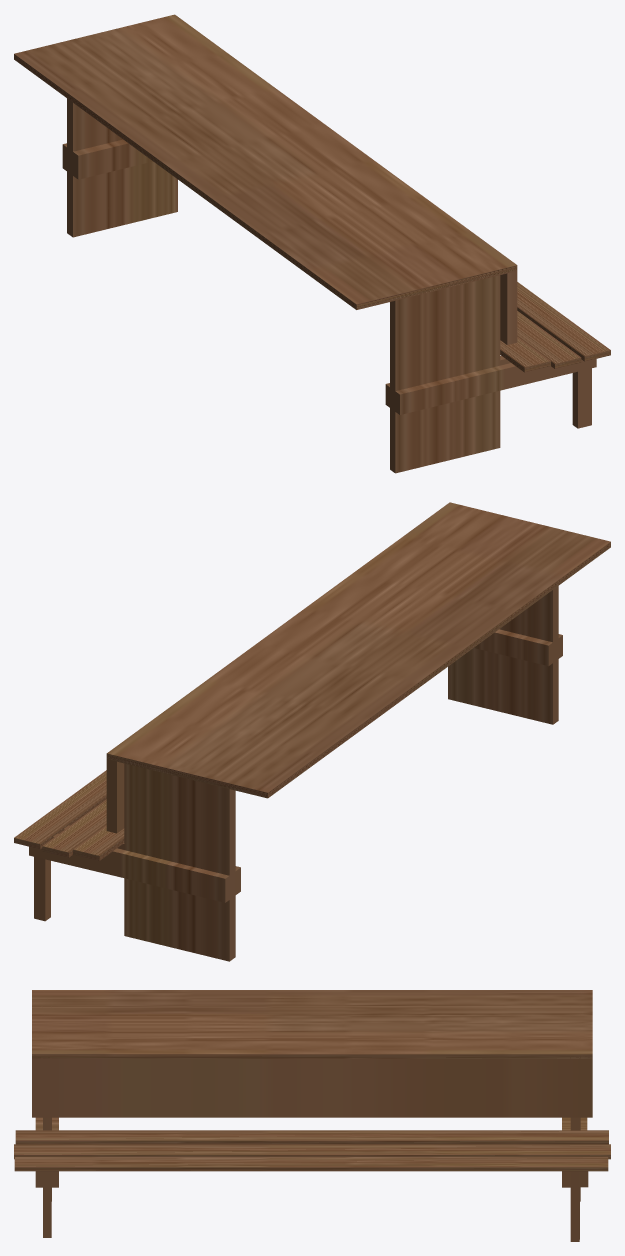
The model's file is Elem_Table.fbx.
3 views of the same model, one above another, from view 1: azimuth 30°, elevation 25°; view 2: azimuth 150°, elevation 25°; view 3: azimuth 270°, elevation 25° (orthographic). The views are drawn at different scales.
Visible parts, largest first — view 1: Cube, Cube.003, Cube.001, Cube.002; view 2: Cube, Cube.003, Cube.001, Cube.002; view 3: Cube, Cube.003, Cube.002, Cube.001.
Boxes of the visible parts, x1,y1,x2,y2 form: Cube: [14, 14, 596, 473]; Cube.003: [517, 282, 610, 361]; Cube.001: [517, 311, 581, 368]; Cube.002: [500, 337, 550, 372]; Cube: [29, 502, 610, 961]; Cube.003: [14, 770, 106, 849]; Cube.001: [42, 799, 106, 857]; Cube.002: [73, 825, 124, 860]; Cube: [32, 990, 592, 1241]; Cube.003: [14, 1156, 608, 1171]; Cube.002: [15, 1130, 608, 1144]; Cube.001: [14, 1144, 610, 1159].
Size of the model in its own units: 445 by 331 by 1151.
Materials: 3 (3 with a texture image).
